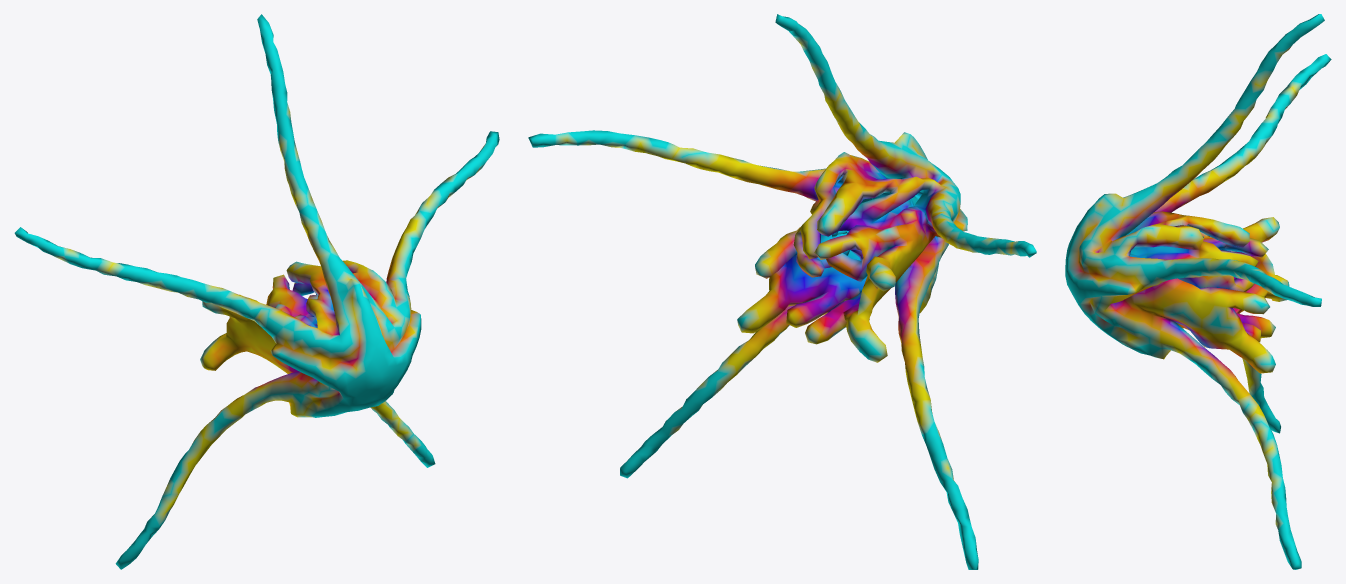
Rendered from jelly_56.gltf.
The picture shows the model from 3 angles, left to right: view 1: azimuth 30°, elevation 25°; view 2: azimuth 150°, elevation 25°; view 3: azimuth 270°, elevation 25°; orthographic projection. The views are drawn at different scales.
Visible parts, largest first — view 1: jellysquid3; view 2: jellysquid3; view 3: jellysquid3.
Part boxes in pixels (left/top/right/bottom): jellysquid3: left=14, top=14, right=499, bottom=569; jellysquid3: left=528, top=14, right=1036, bottom=569; jellysquid3: left=1065, top=14, right=1331, bottom=569.
Bounding box in the file's own units: 21.78 × 21.6 × 10.48.
